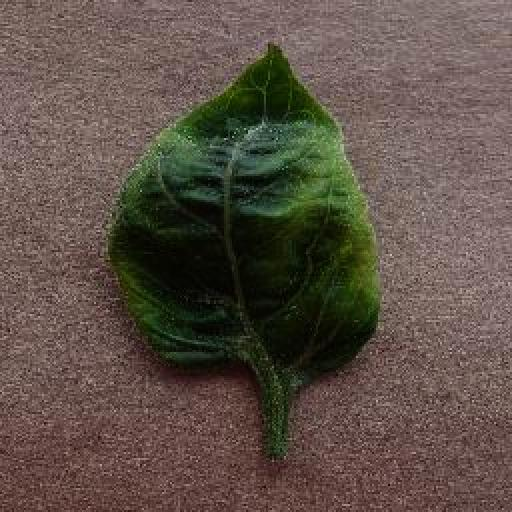disease_tomato: (108, 41, 382, 395)
